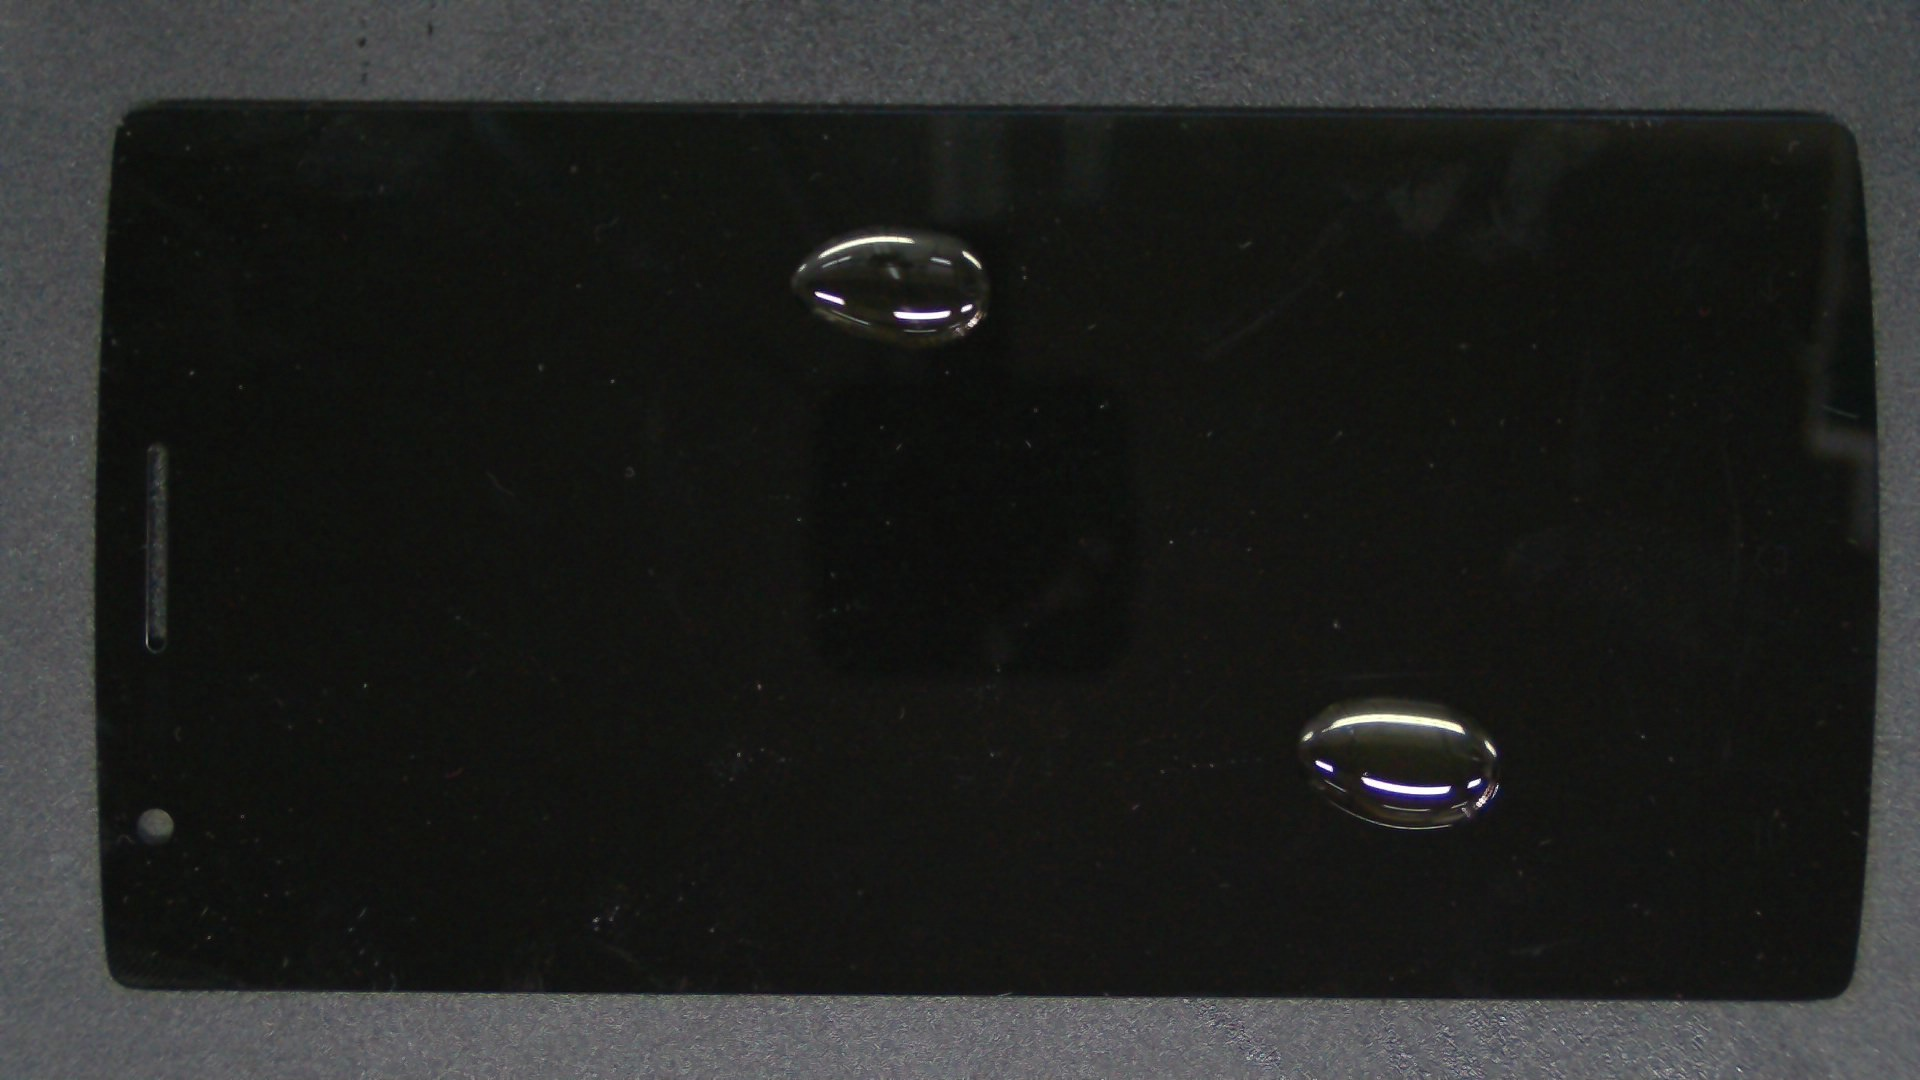oil: (694, 348, 1920, 1047), (443, 112, 1325, 339)
